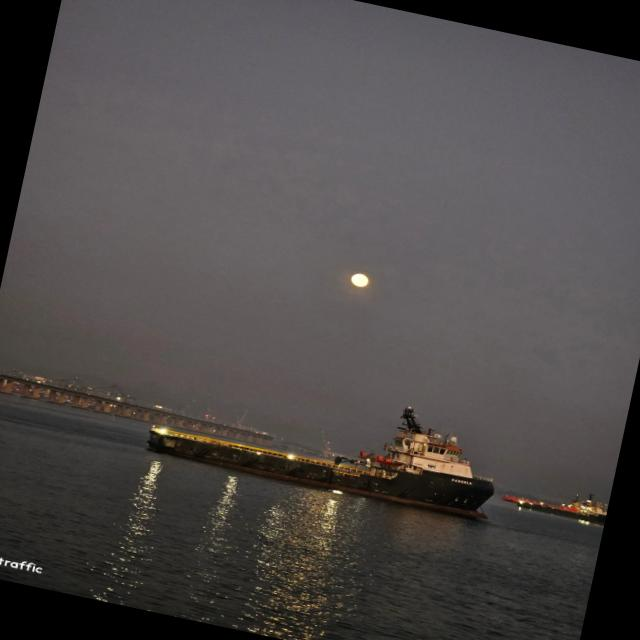Offshore: (147, 406, 494, 518)
